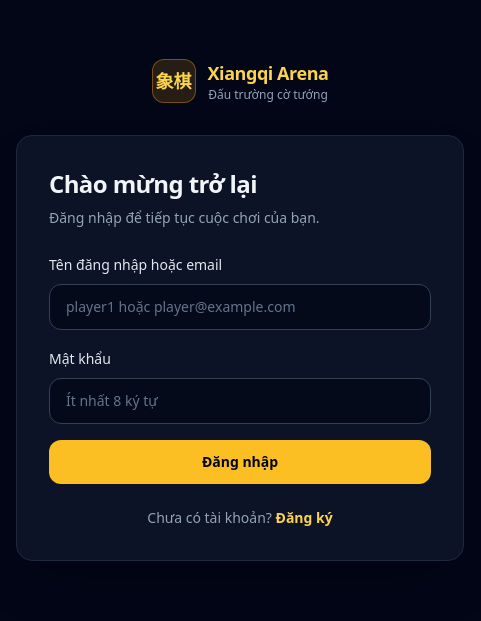
Test: AuthForm › shows the API 401 error without leaving the login page
Type "player1" into the field labelled "Tên đăng nhập hoặc email". click: (240, 307)
box: x1=49 y1=284 x2=431 y2=330
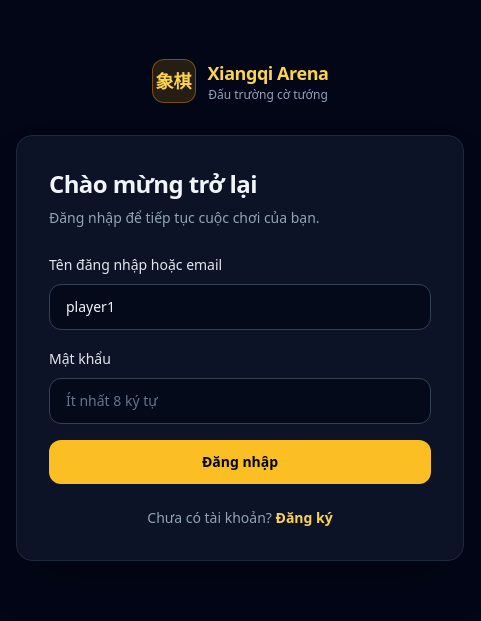
Type "wrongpass" into the password field labelled "Mật khẩu". click: (240, 401)
box: x1=49 y1=378 x2=431 y2=424
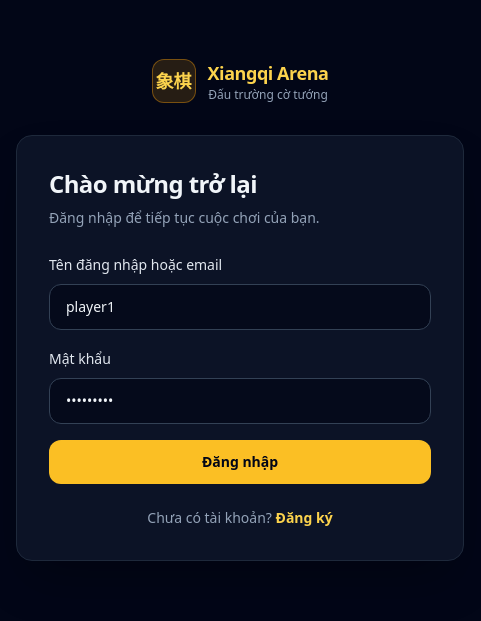
Click the button "Đăng nhập". click: (240, 462)
box: x1=49 y1=440 x2=431 y2=484
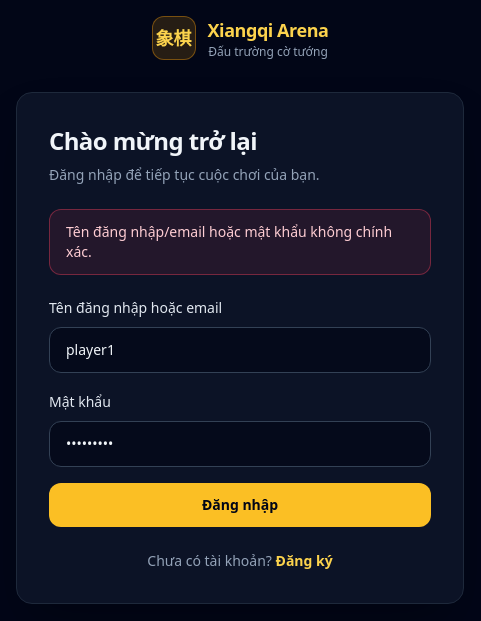
Check: the message reads "Tên đăng nhập/email hoặc mật khẩu không chính xác.", box x1=66 y1=222 x2=392 y2=261
